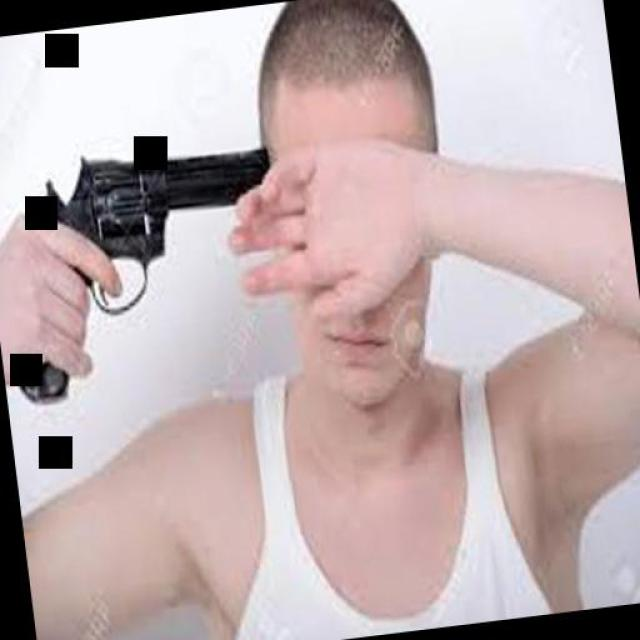gun: (0, 132, 294, 402)
